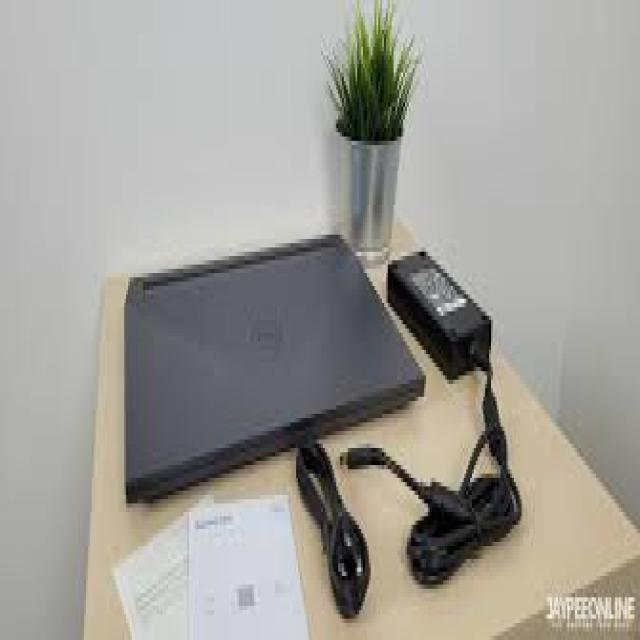laptop: (122, 231, 426, 504)
